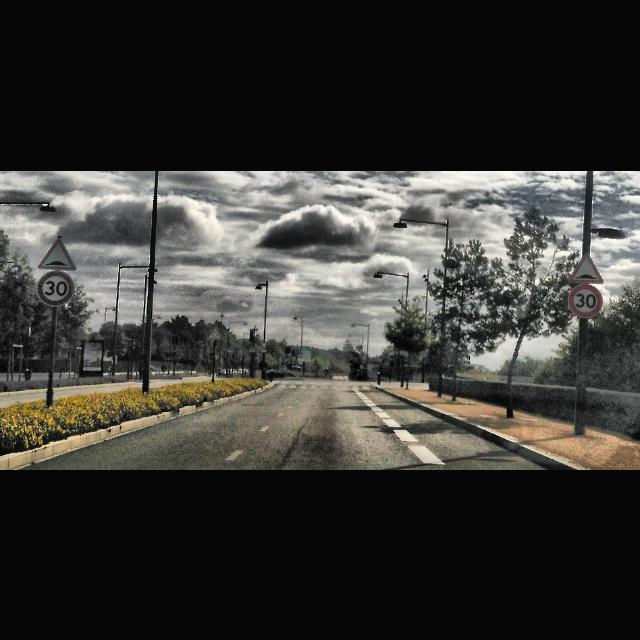speed_30: (569, 284, 603, 316)
